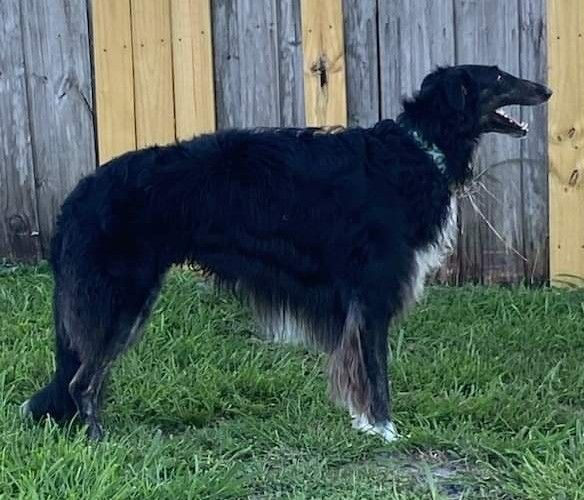borzoi: (19, 54, 566, 448)
